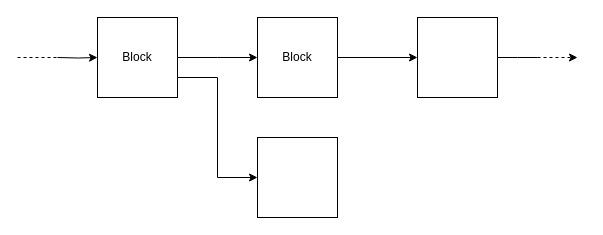
This 603x235 diagram has some shape labels left out. The shapes that lost their labels are listed below. From the top down, each one's centre as x and y in pixels, then its label:
At point (457, 57): "Nephew".
At point (297, 177): "Uncle".
